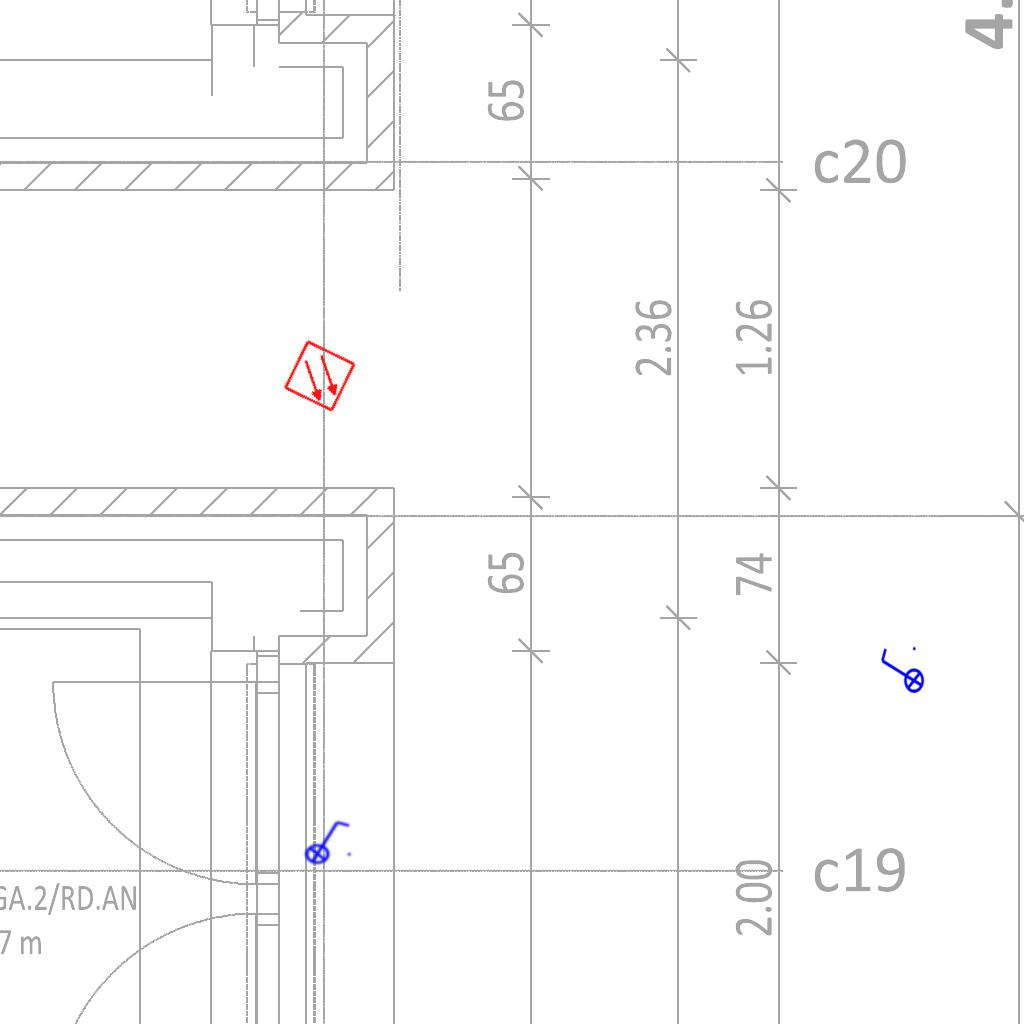Ausschalter_beleuchtet: (297, 816, 355, 866), (877, 644, 925, 700)
RMO_Rauchmelder_optischer: (282, 338, 358, 414)
